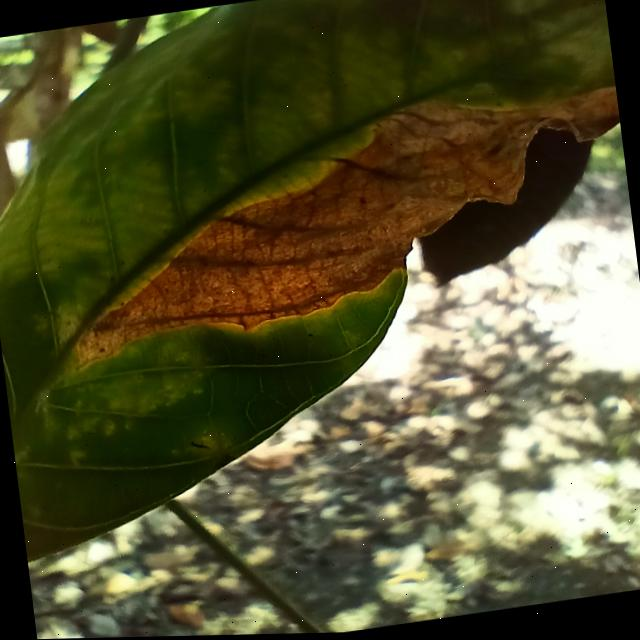Leaf-Blight: (37, 75, 638, 360)
